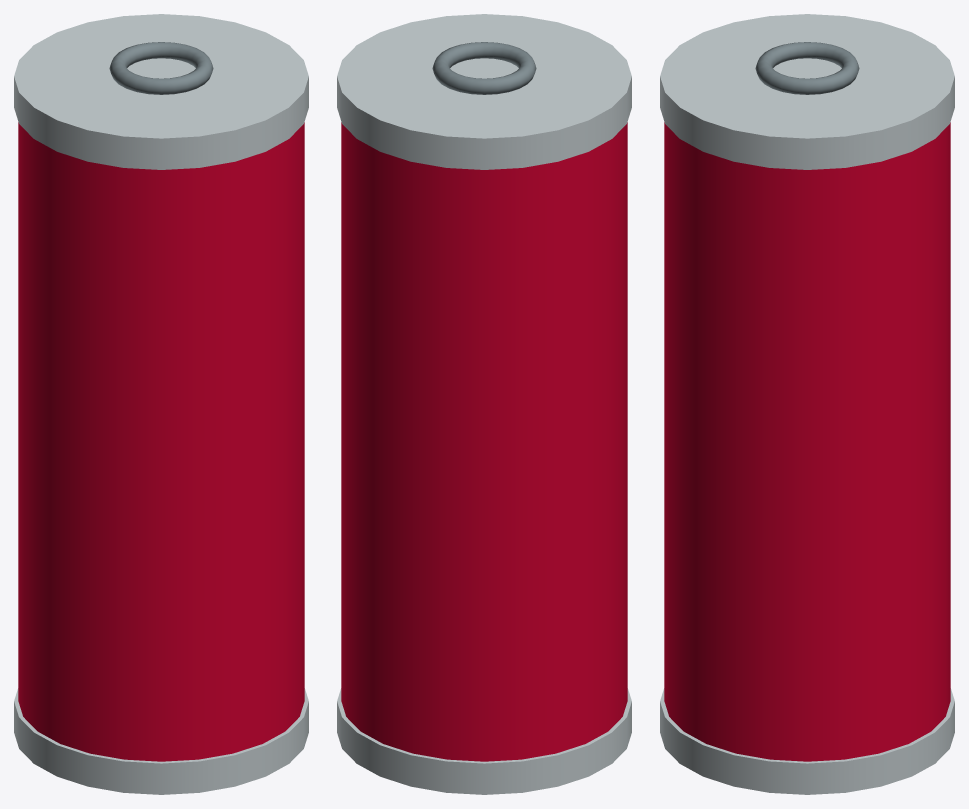
File: Can_Prototype.fbx
3 views of the same model, side by side, from view 1: azimuth 30°, elevation 25°; view 2: azimuth 150°, elevation 25°; view 3: azimuth 270°, elevation 25° (orthographic).
Parts seen in each view (by area): view 1: Can_Prototype_Red, Can_Prototype_Steel, Can_Prototype_SteelDark; view 2: Can_Prototype_Red, Can_Prototype_Steel, Can_Prototype_SteelDark; view 3: Can_Prototype_Red, Can_Prototype_Steel, Can_Prototype_SteelDark.
Boxes of the visible parts, left/top/right/bottom form: Can_Prototype_Red: left=18, top=122, right=304, bottom=761; Can_Prototype_Steel: left=14, top=14, right=308, bottom=794; Can_Prototype_SteelDark: left=109, top=42, right=213, bottom=94; Can_Prototype_Red: left=341, top=122, right=627, bottom=761; Can_Prototype_Steel: left=337, top=14, right=631, bottom=794; Can_Prototype_SteelDark: left=432, top=42, right=536, bottom=94; Can_Prototype_Red: left=664, top=122, right=950, bottom=761; Can_Prototype_Steel: left=660, top=14, right=954, bottom=794; Can_Prototype_SteelDark: left=755, top=42, right=859, bottom=94.
Bounding box in the file's own units: 6.8 × 17.1 × 6.8.
